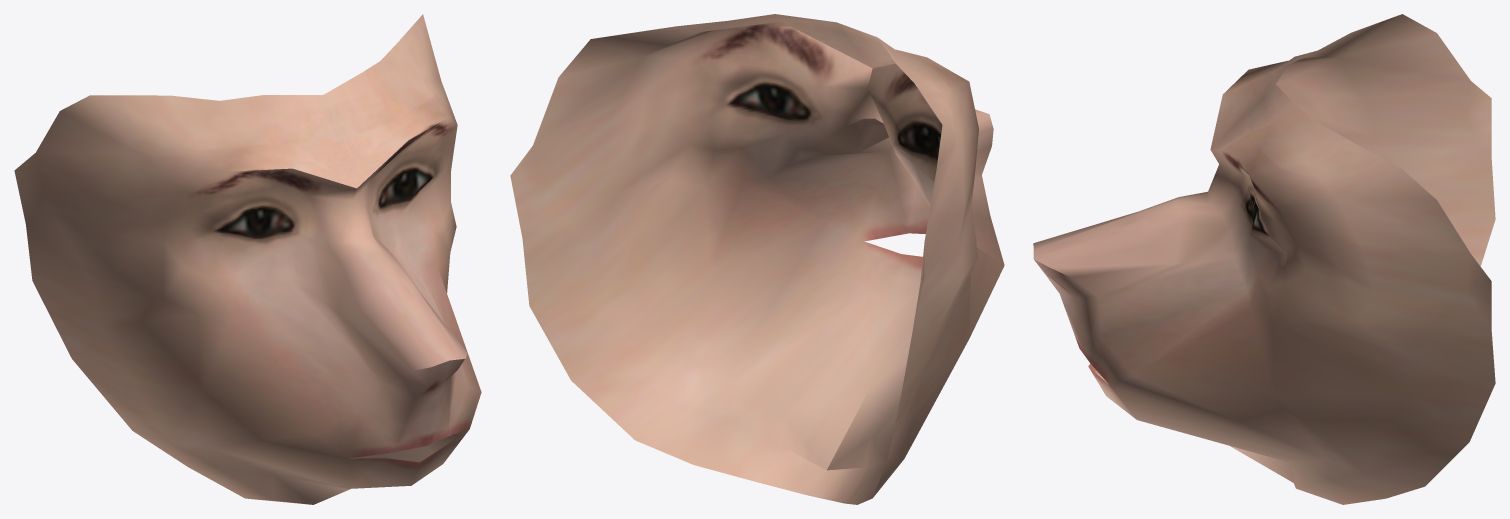
Rendered from hero2.obj.
3 renders of one model, left to right at view 1: azimuth 30°, elevation 25°; view 2: azimuth 150°, elevation 25°; view 3: azimuth 270°, elevation 25°, orthographic. The views are drawn at different scales.
Visible parts, largest first — view 1: hero2; view 2: hero2; view 3: hero2.
Boxes of the visible parts, <box> form: hero2: <box>14,14,481,504</box>; hero2: <box>510,14,1004,504</box>; hero2: <box>1033,14,1495,504</box>.
Size of the model in its own units: 6.83 by 7.21 by 7.29.
